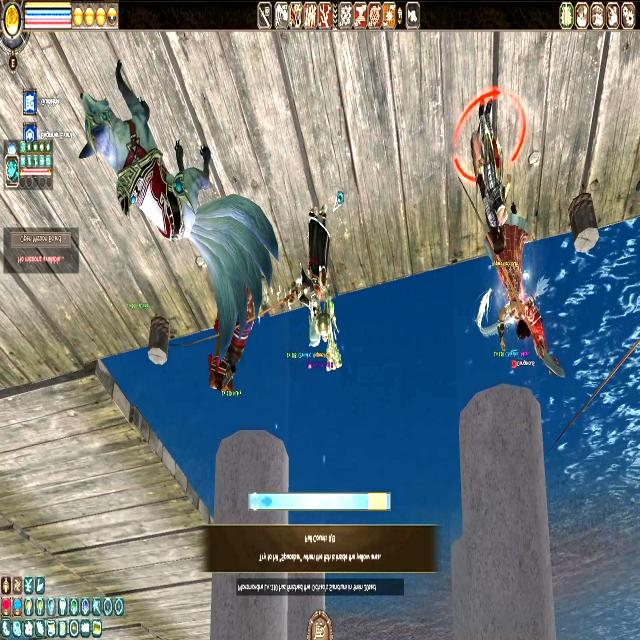fishes: (258, 494, 274, 512)
